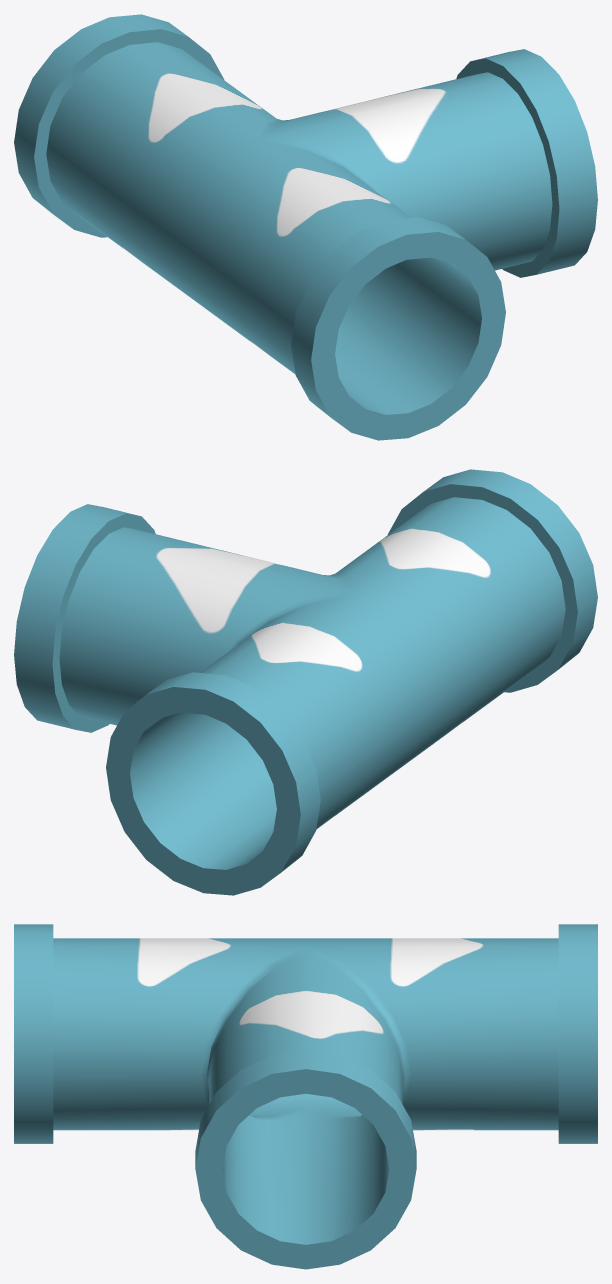
The model's file is SM_TPipe.fbx.
The picture shows the model from 3 angles, top to bottom: view 1: azimuth 30°, elevation 25°; view 2: azimuth 150°, elevation 25°; view 3: azimuth 270°, elevation 25°; orthographic projection.
Visible parts, largest first — view 1: SM_TPipe; view 2: SM_TPipe; view 3: SM_TPipe.
Part boxes in pixels (bbox=[...]): SM_TPipe: bbox=[14, 14, 597, 440]; SM_TPipe: bbox=[14, 469, 597, 895]; SM_TPipe: bbox=[14, 924, 597, 1269].
Size of the model in its own units: 72.33 by 37.18 by 98.18.
